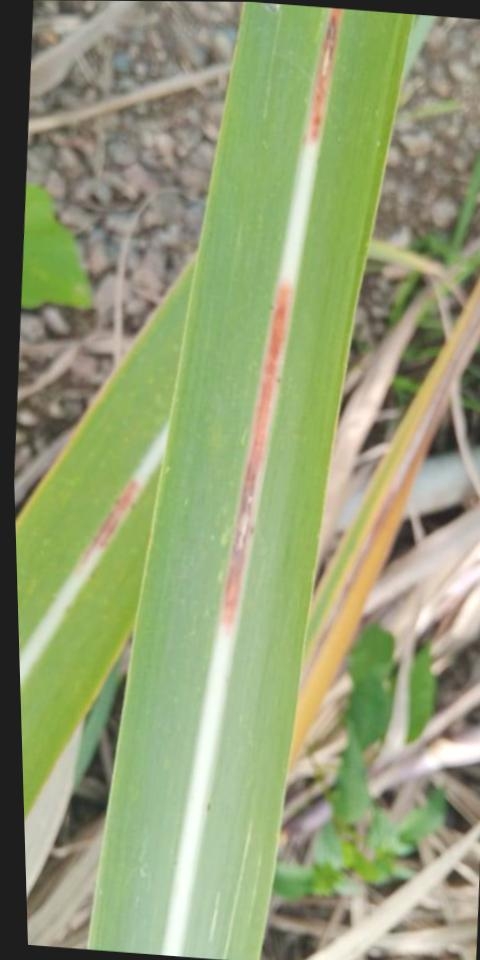RedRot: (217, 283, 294, 634), (73, 477, 141, 573), (304, 9, 342, 144)
